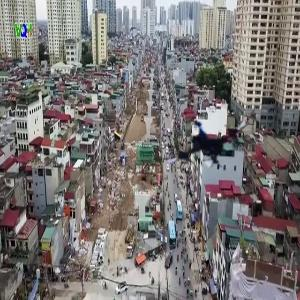drone: (151, 85, 250, 184)
